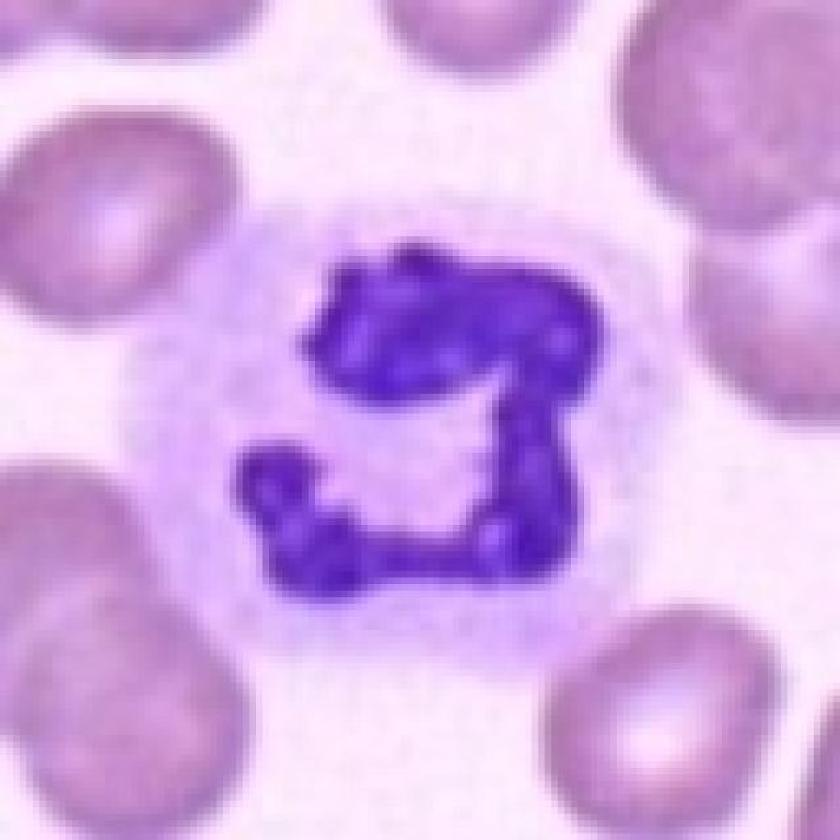neutrophil: (114, 184, 685, 679)
